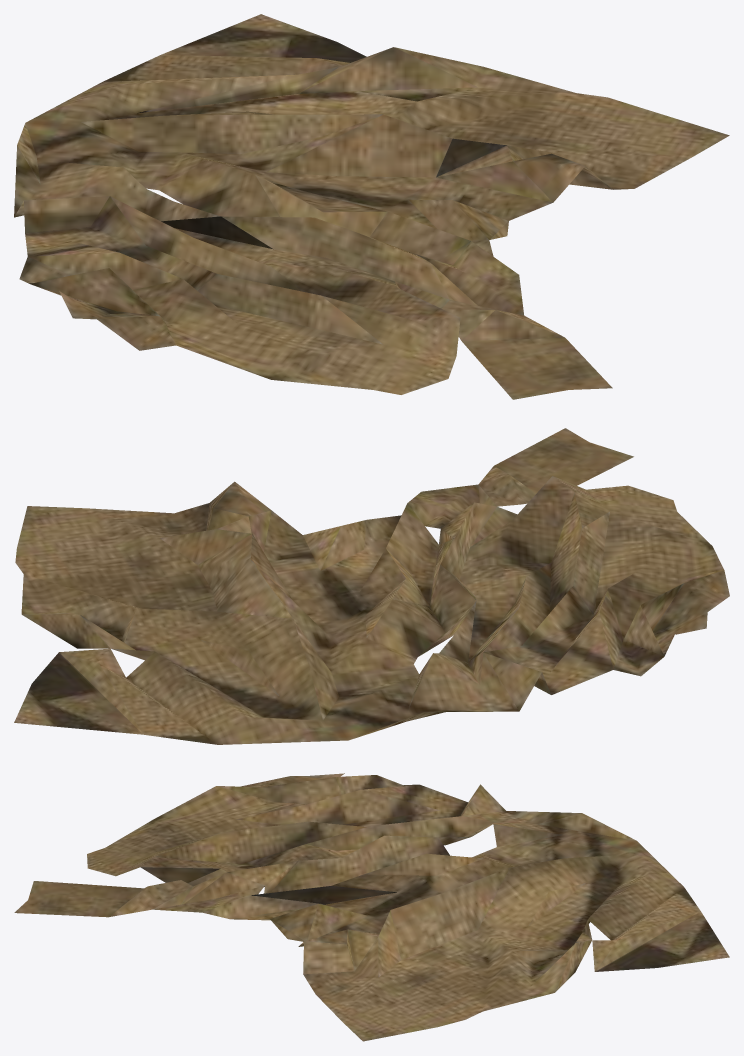
The model's file is rag_burlap_sack_0_lod1_web.glb.
The picture shows the model from 3 angles, top to bottom: view 1: azimuth 30°, elevation 25°; view 2: azimuth 150°, elevation 25°; view 3: azimuth 270°, elevation 25°; orthographic projection. The views are drawn at different scales.
Visible parts, largest first — view 1: rag_burlap_sack_0_Cloth; view 2: rag_burlap_sack_0_Cloth; view 3: rag_burlap_sack_0_Cloth.
Part boxes in pixels (box(x1,y1,x2,y2)): rag_burlap_sack_0_Cloth: box(14, 14, 729, 399); rag_burlap_sack_0_Cloth: box(14, 428, 729, 744); rag_burlap_sack_0_Cloth: box(14, 773, 729, 1041).
Bounding box in the file's own units: 0.8161 × 0.0647 × 0.9621.
1 material, 1 textured.
